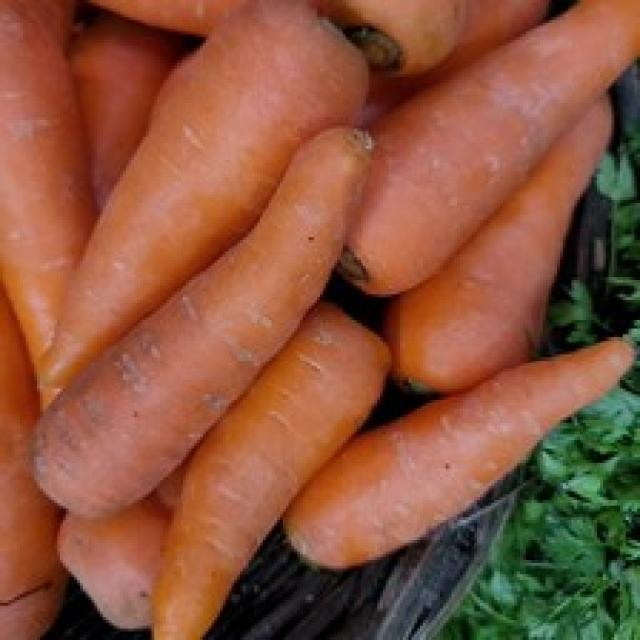Fresh_Carrot: (342, 0, 623, 277), (172, 334, 377, 640), (6, 98, 298, 248), (16, 25, 381, 95)
